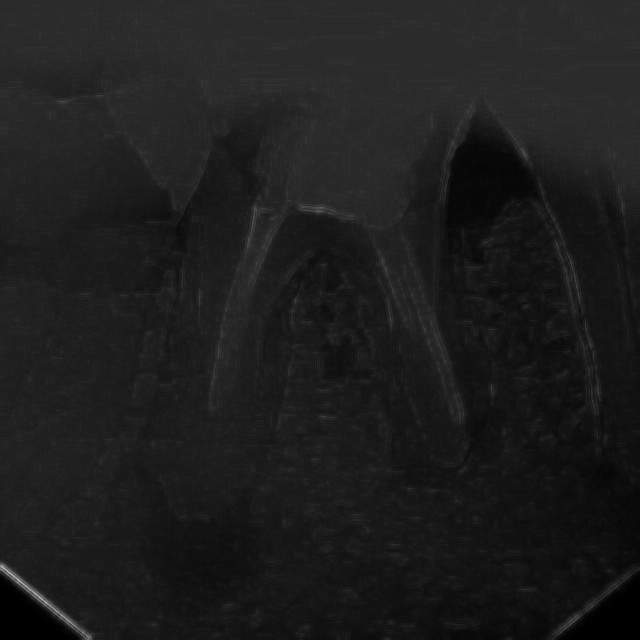Class 1- complete endodontic treatment: (92, 16, 558, 541)
